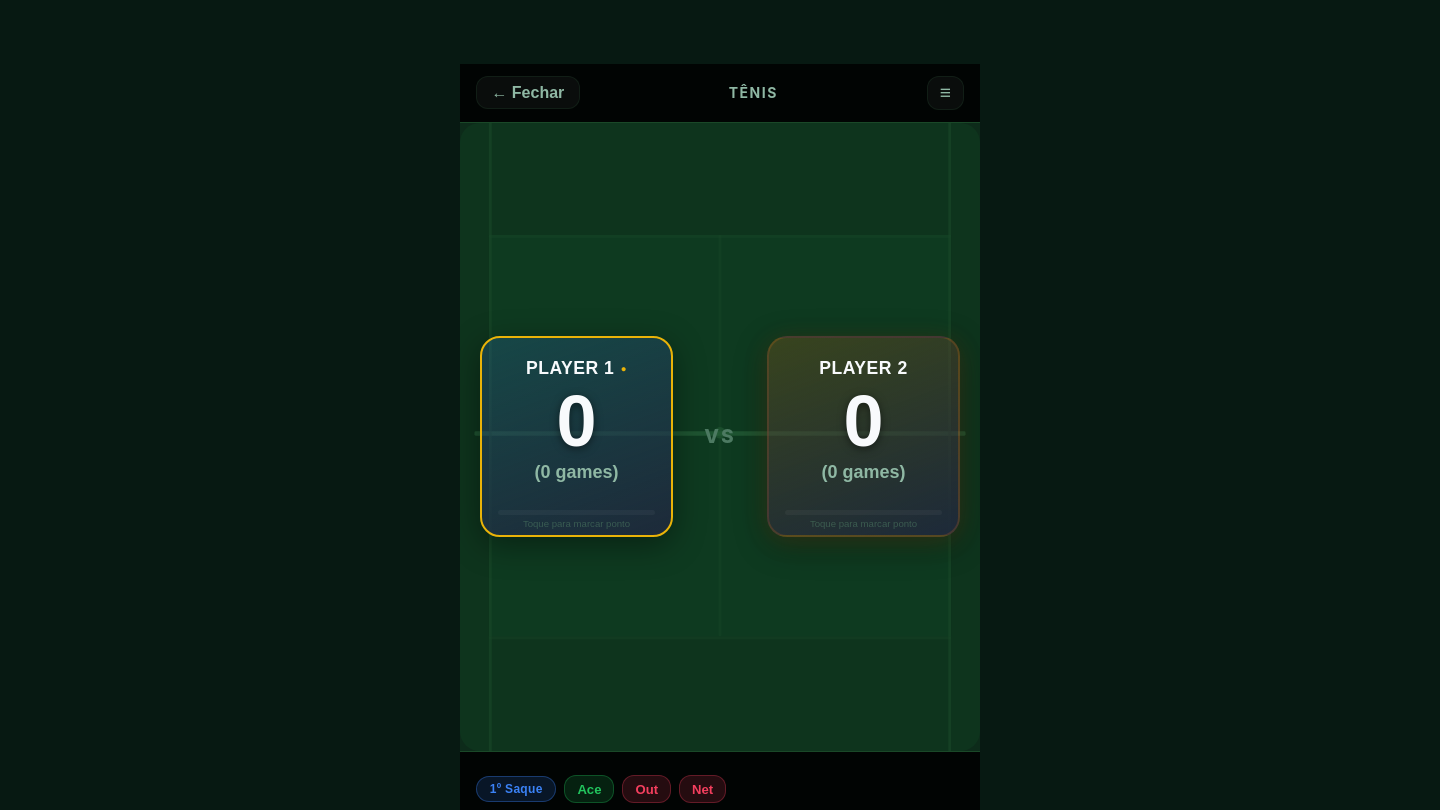
Scenario: ScoreboardV2 - ServerEffect Integration › Fluxo Ace → ServerEffect › abre ServerEffectModal ao clicar em Ace no 1º saque
The width and height of the screenshot is (1440, 810).
expect the text "Player 1" is shown: met, box [526,358,614,378]
Click the button "Ace" at (589, 789), box [564,775,614,803]
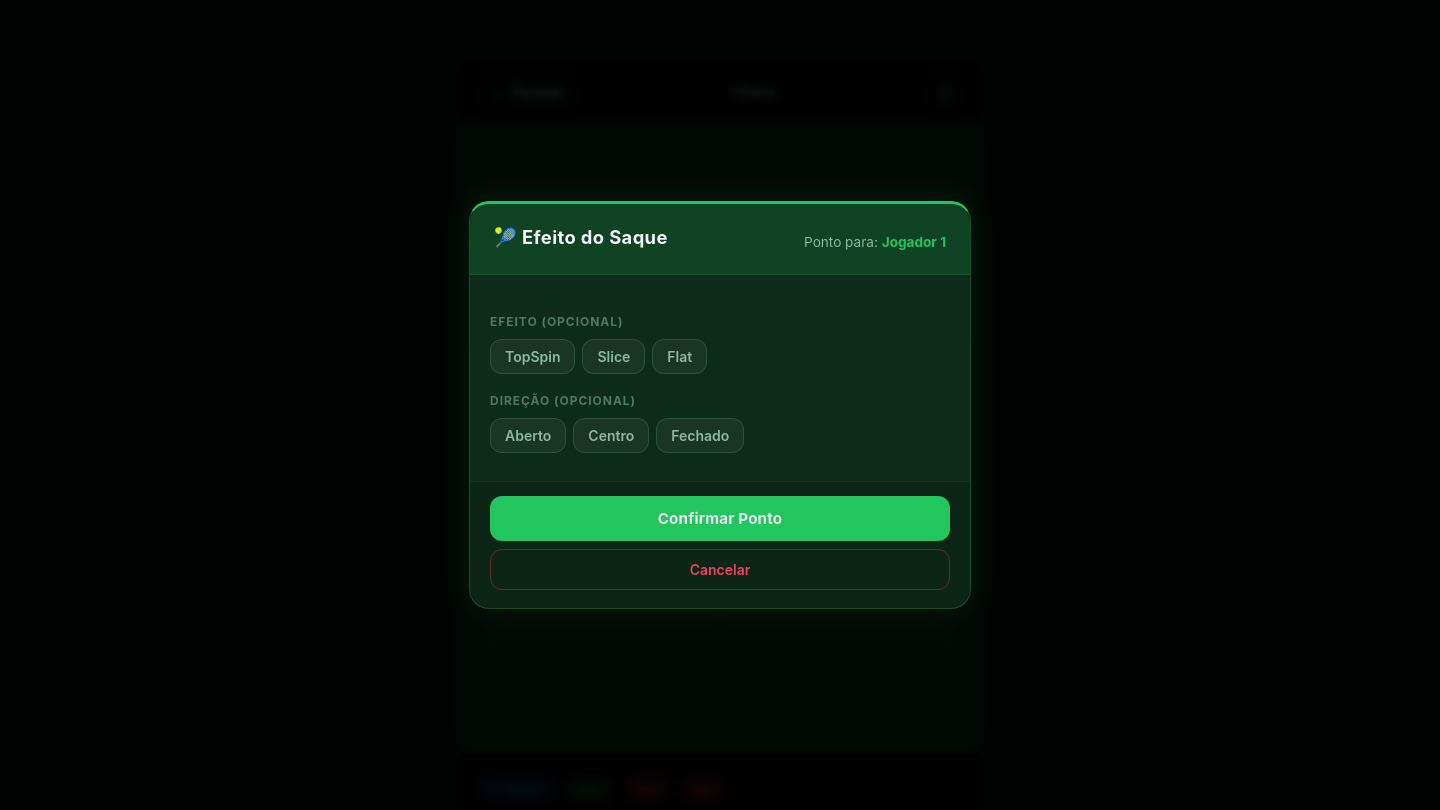
expect the element with test id "server-effect-modal" is shown: met, box [469,201,971,609]
